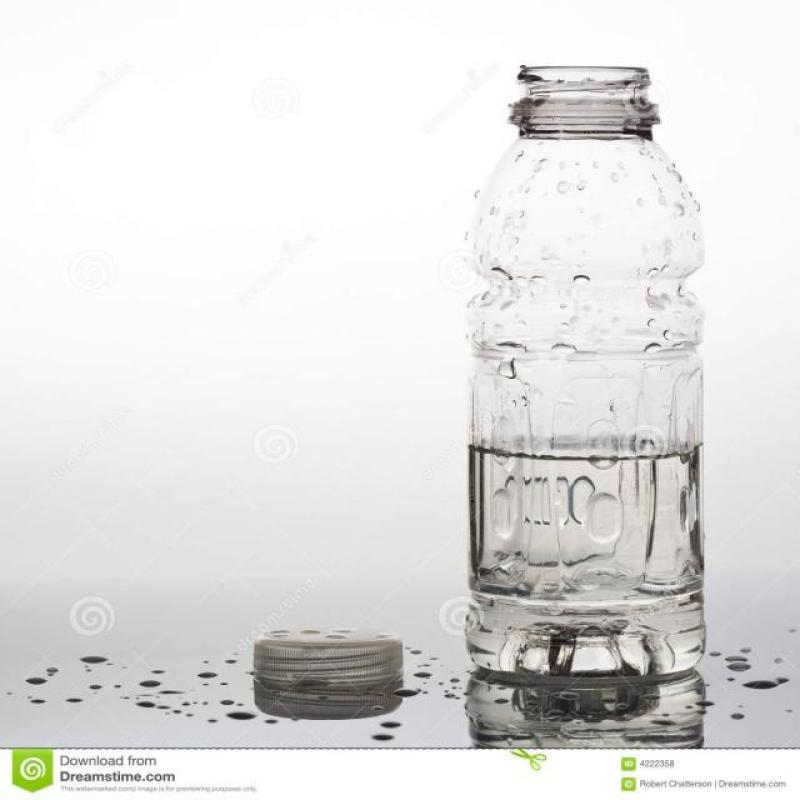botella: (458, 66, 707, 680)
